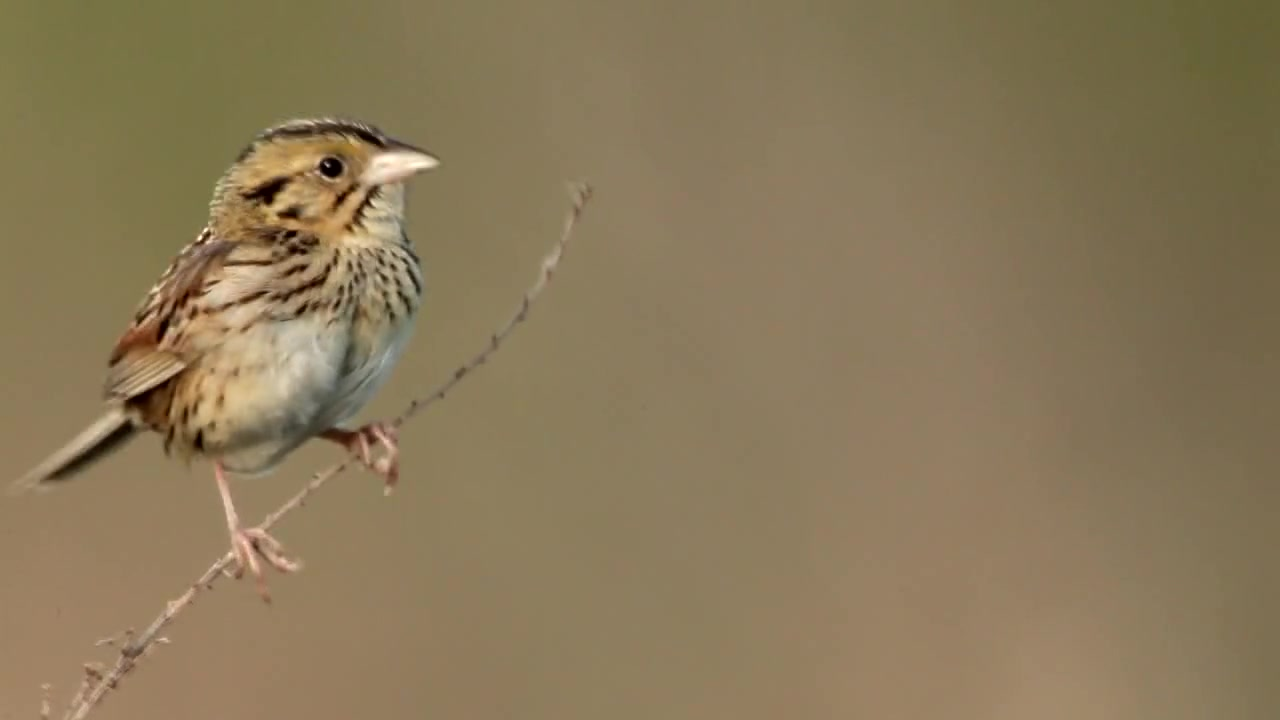bird: (17, 116, 444, 604)
